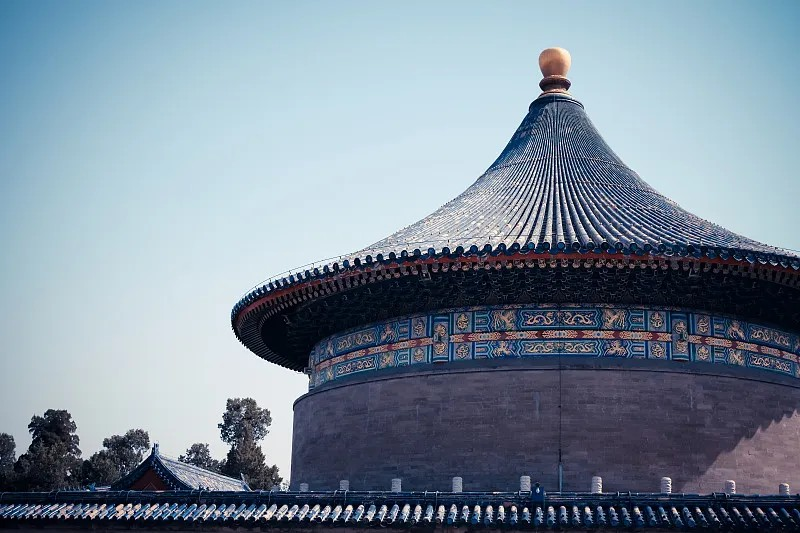Heaven: (227, 46, 800, 496)
